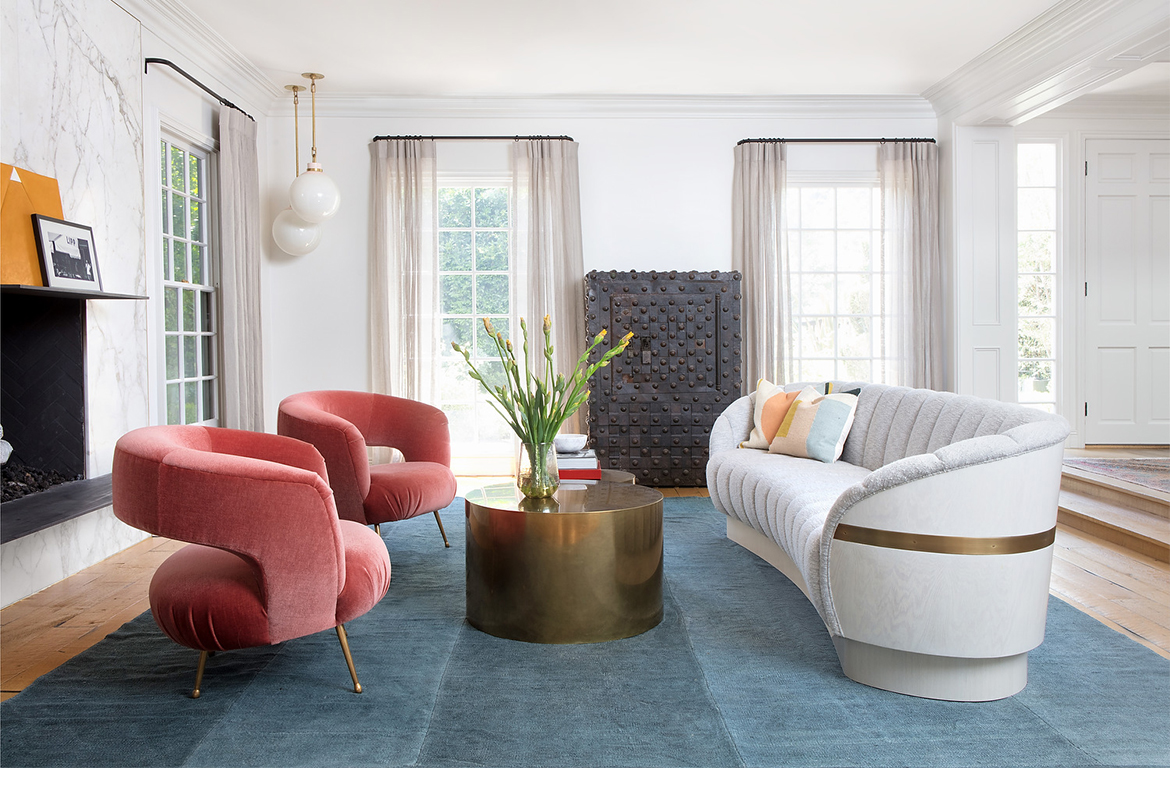pink: (111, 432, 387, 629), (279, 394, 450, 533)
putih: (715, 377, 1062, 694), (292, 178, 337, 223), (274, 211, 319, 256), (554, 432, 588, 453)
